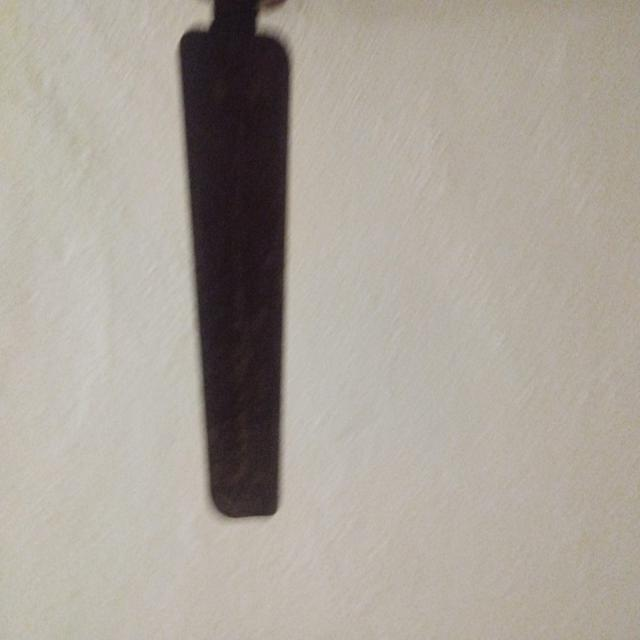fan_off: (175, 1, 298, 524)
